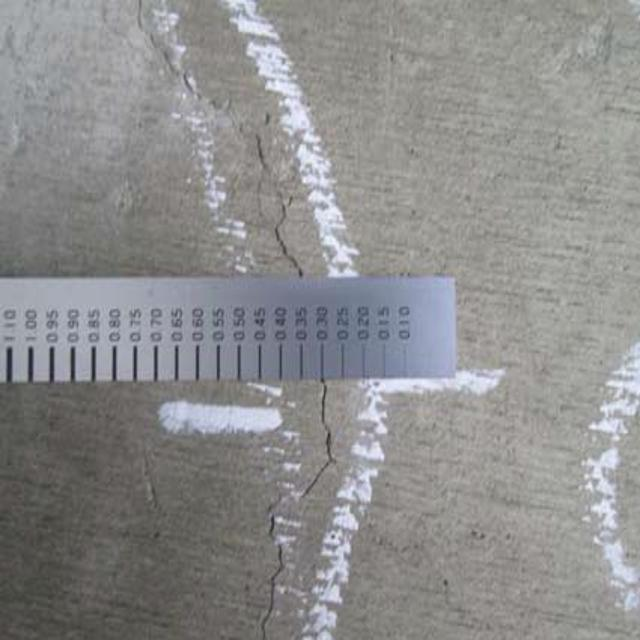crack: (126, 10, 317, 281), (230, 378, 365, 640)
